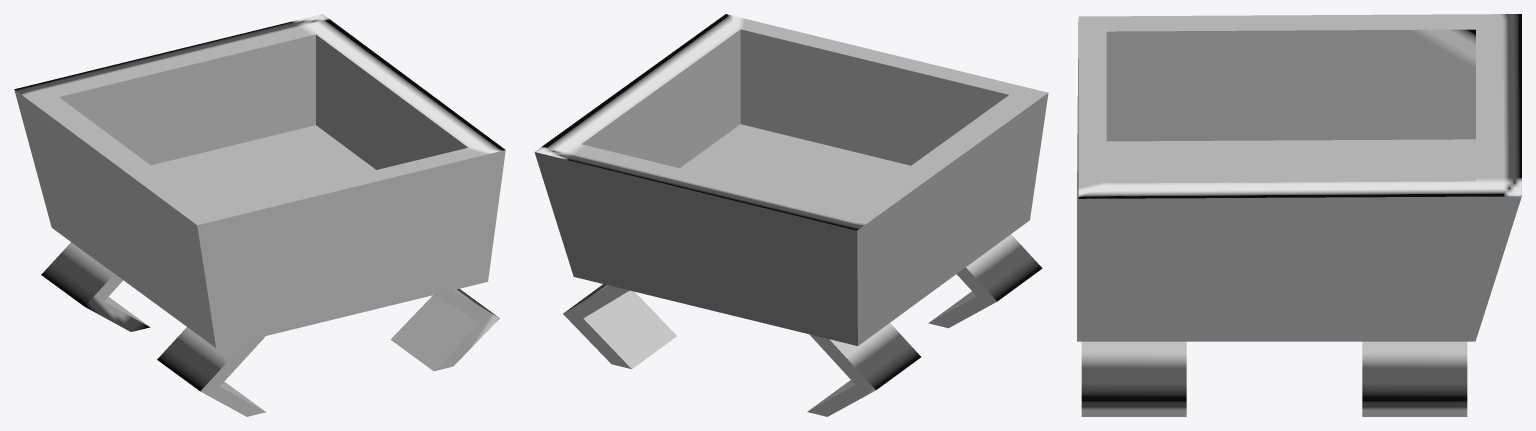
Rendered from coaster_connect.obj.
The picture shows the model from 3 angles, left to right: view 1: azimuth 30°, elevation 25°; view 2: azimuth 150°, elevation 25°; view 3: azimuth 270°, elevation 25°; orthographic projection. The views are drawn at different scales.
Visible parts, largest first — view 1: Cube.001; view 2: Cube.001; view 3: Cube.001.
Part boxes in pixels (<box>): Cube.001: <box>14,14,505,416</box>; Cube.001: <box>534,14,1048,416</box>; Cube.001: <box>1077,14,1521,416</box>.
Bounding box in the file's own units: 1.36 × 0.8731 × 1.4.
